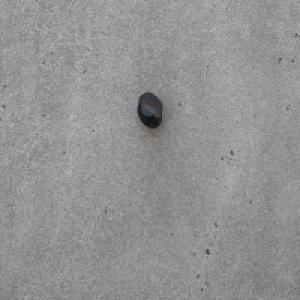FuelCap: (137, 91, 163, 129)
